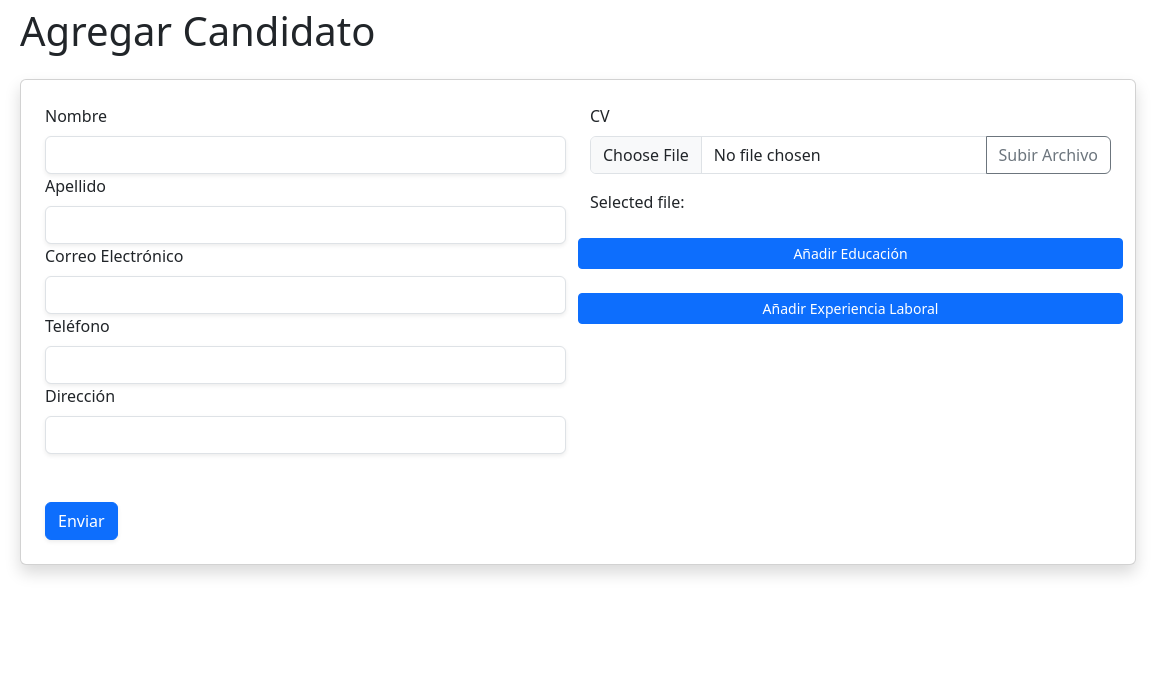
Test case: AddCandidateForm Component › Envío del Formulario › debe_enviar_formulario_exitosamente
The width and height of the screenshot is (1157, 684).
Type "Juan" into the field labelled "Nombre".
click(306, 155); type("Juan")  # box [45,136,566,174]
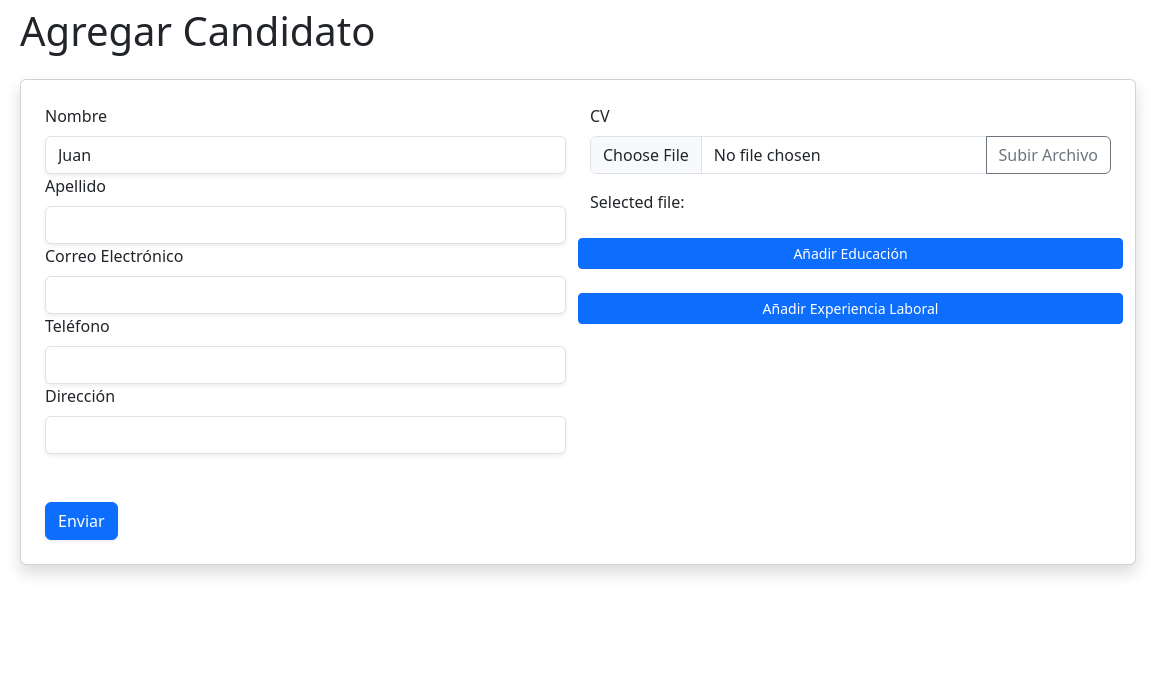
Type "Pérez" into the field labelled "Apellido".
click(306, 225); type("Pérez")  # box [45,206,566,244]
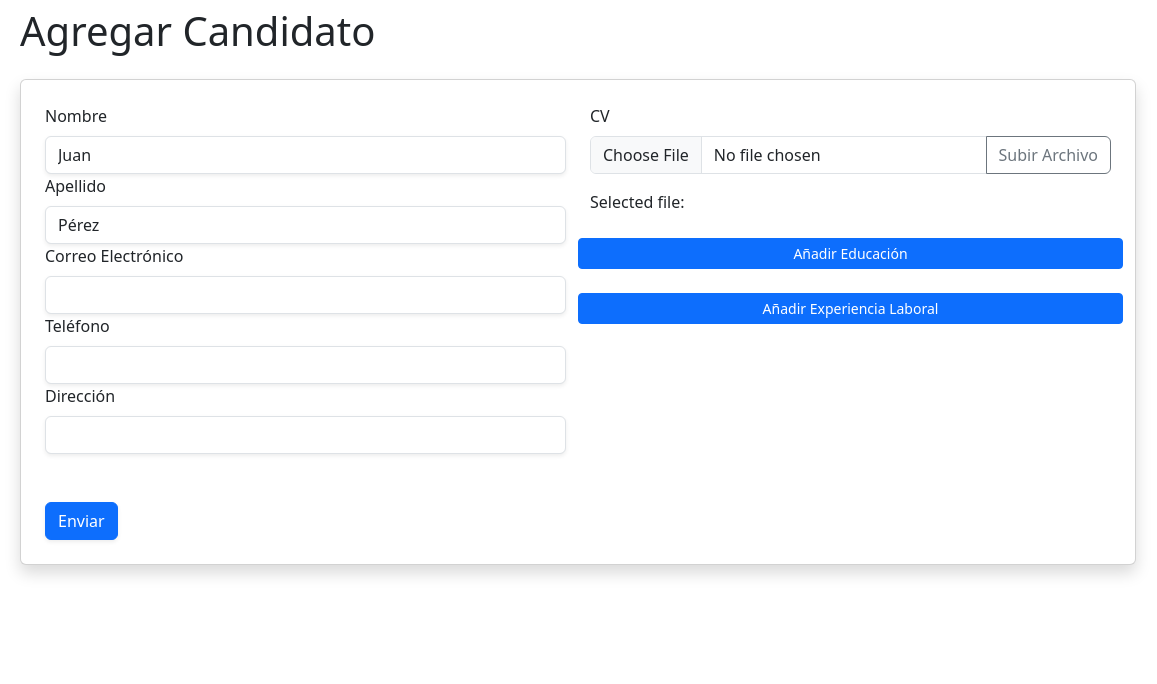
Type "juan@example.com" into the field labelled "Correo Electrónico".
click(306, 295); type("juan@example.com")  # box [45,276,566,314]
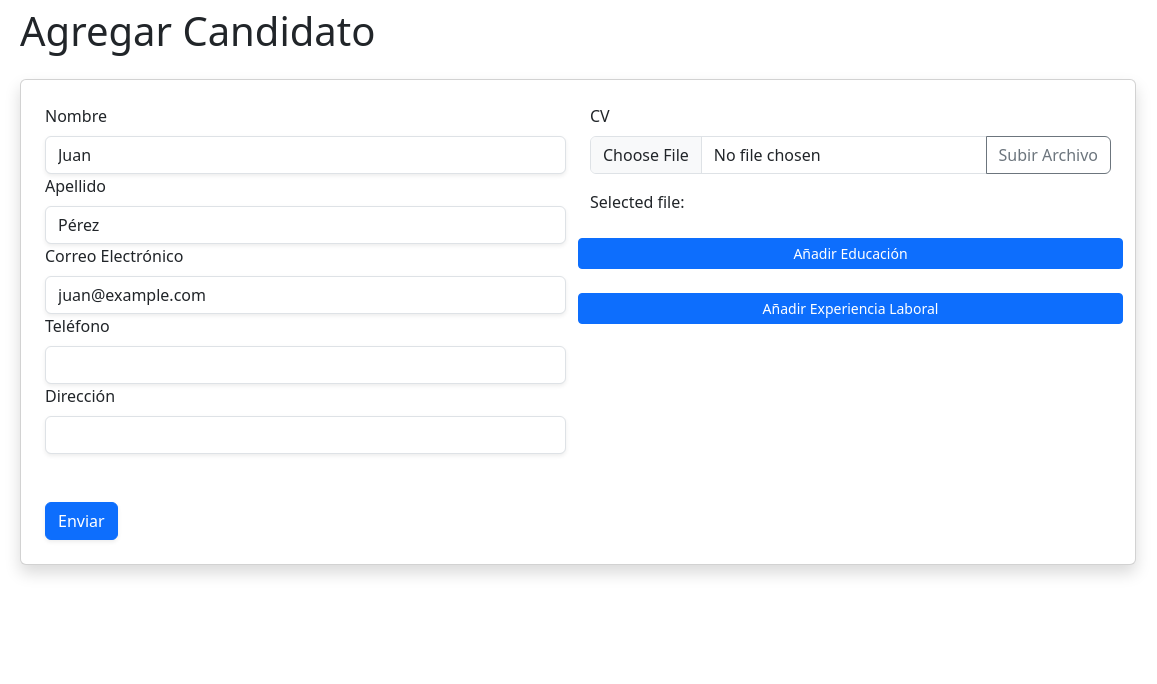
Click the button "Enviar".
click(81, 521)  # box [45,502,118,540]
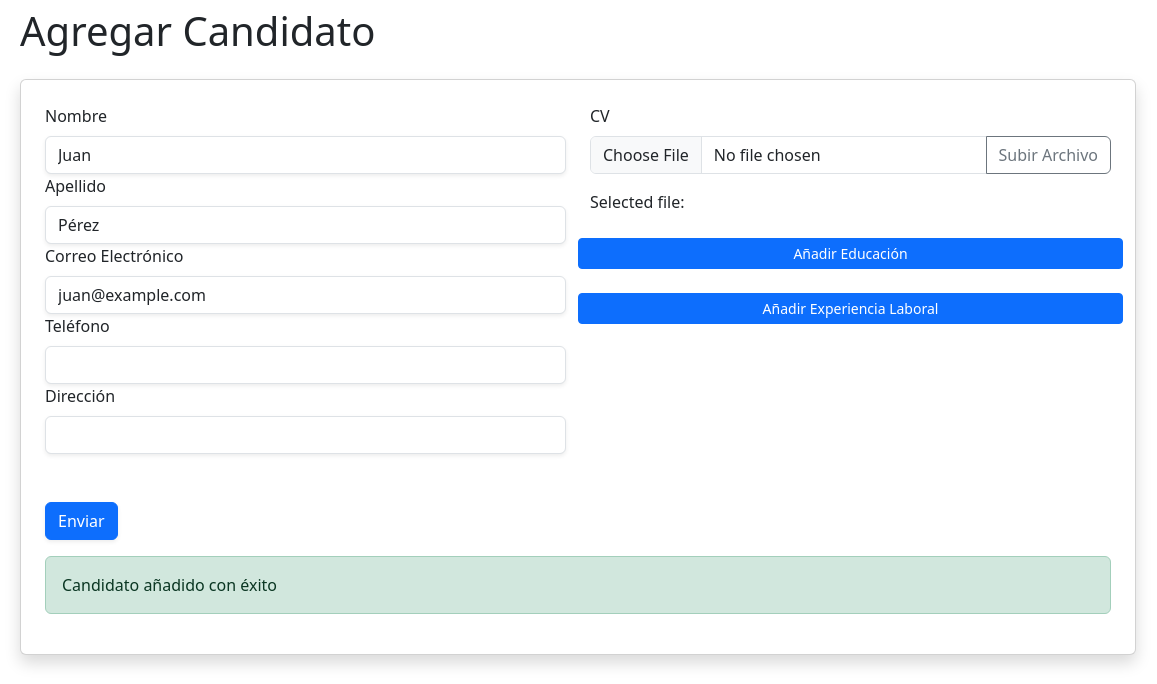
Now the text "Candidato añadido con éxito" is shown, box [45,556,1111,614]
